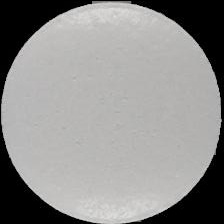0054-0269: (0, 0, 224, 224)
